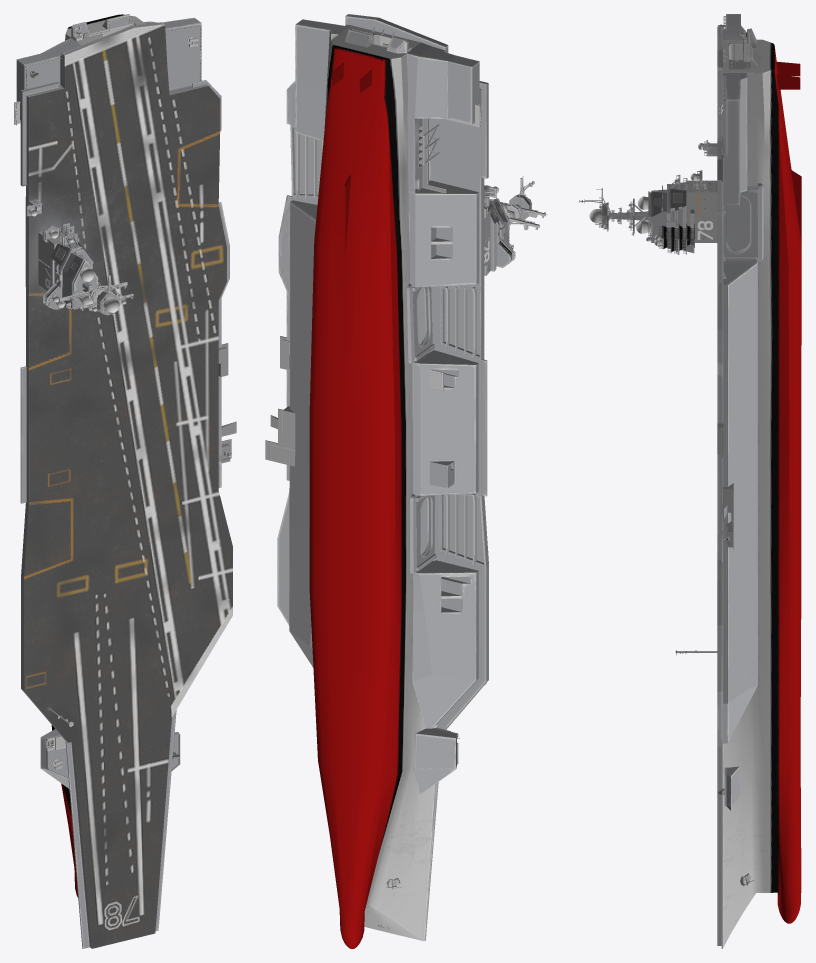
Rendered from aircraft_carrier.obj.
3 views of the same model, side by side, from view 1: azimuth 30°, elevation 25°; view 2: azimuth 150°, elevation 25°; view 3: azimuth 270°, elevation 25° (orthographic). The views are drawn at different scales.
Parts seen in each view (by area): view 1: obj816, obj815, obj813, obj814, obj512, obj516, obj802, obj506, obj1, obj3; view 2: obj802, obj816, obj806, obj509, obj507, obj510, obj512, obj511, obj815, obj516, obj814, obj506 (+3 smaller); view 3: obj802, obj806, obj816, obj512, obj1, obj807, obj803, obj3, obj505, obj828.
Boxes of the visible parts, box(x1,y1,x2,y2) form: obj816: box(20, 22, 232, 948); obj815: box(21, 501, 70, 576); obj813: box(179, 133, 219, 206); obj814: box(26, 294, 69, 367); obj512: box(144, 17, 201, 92); obj516: box(16, 42, 81, 119); obj802: box(51, 14, 145, 897); obj506: box(40, 729, 69, 788); obj1: box(38, 227, 79, 290); obj3: box(62, 252, 85, 309); obj802: box(309, 25, 436, 948); obj816: box(277, 14, 488, 940); obj806: box(289, 200, 317, 667); obj509: box(412, 560, 478, 728); obj507: box(412, 350, 478, 495); obj510: box(408, 180, 478, 287); obj512: box(295, 19, 350, 141); obj511: box(407, 49, 448, 193); obj815: box(440, 494, 488, 567); obj516: box(412, 42, 481, 124); obj814: box(441, 285, 484, 359); obj506: box(414, 728, 456, 794); obj802: box(723, 39, 801, 947); obj806: box(723, 260, 757, 743); obj816: box(717, 27, 722, 948); obj512: box(723, 73, 747, 205); obj1: box(686, 180, 717, 242); obj807: box(723, 188, 757, 260); obj803: box(726, 196, 749, 250); obj3: box(651, 189, 666, 242); obj505: box(726, 766, 740, 810); obj828: box(757, 183, 763, 261).
Bounding box in the file's own units: 13.72 × 53.59 × 12.34.
